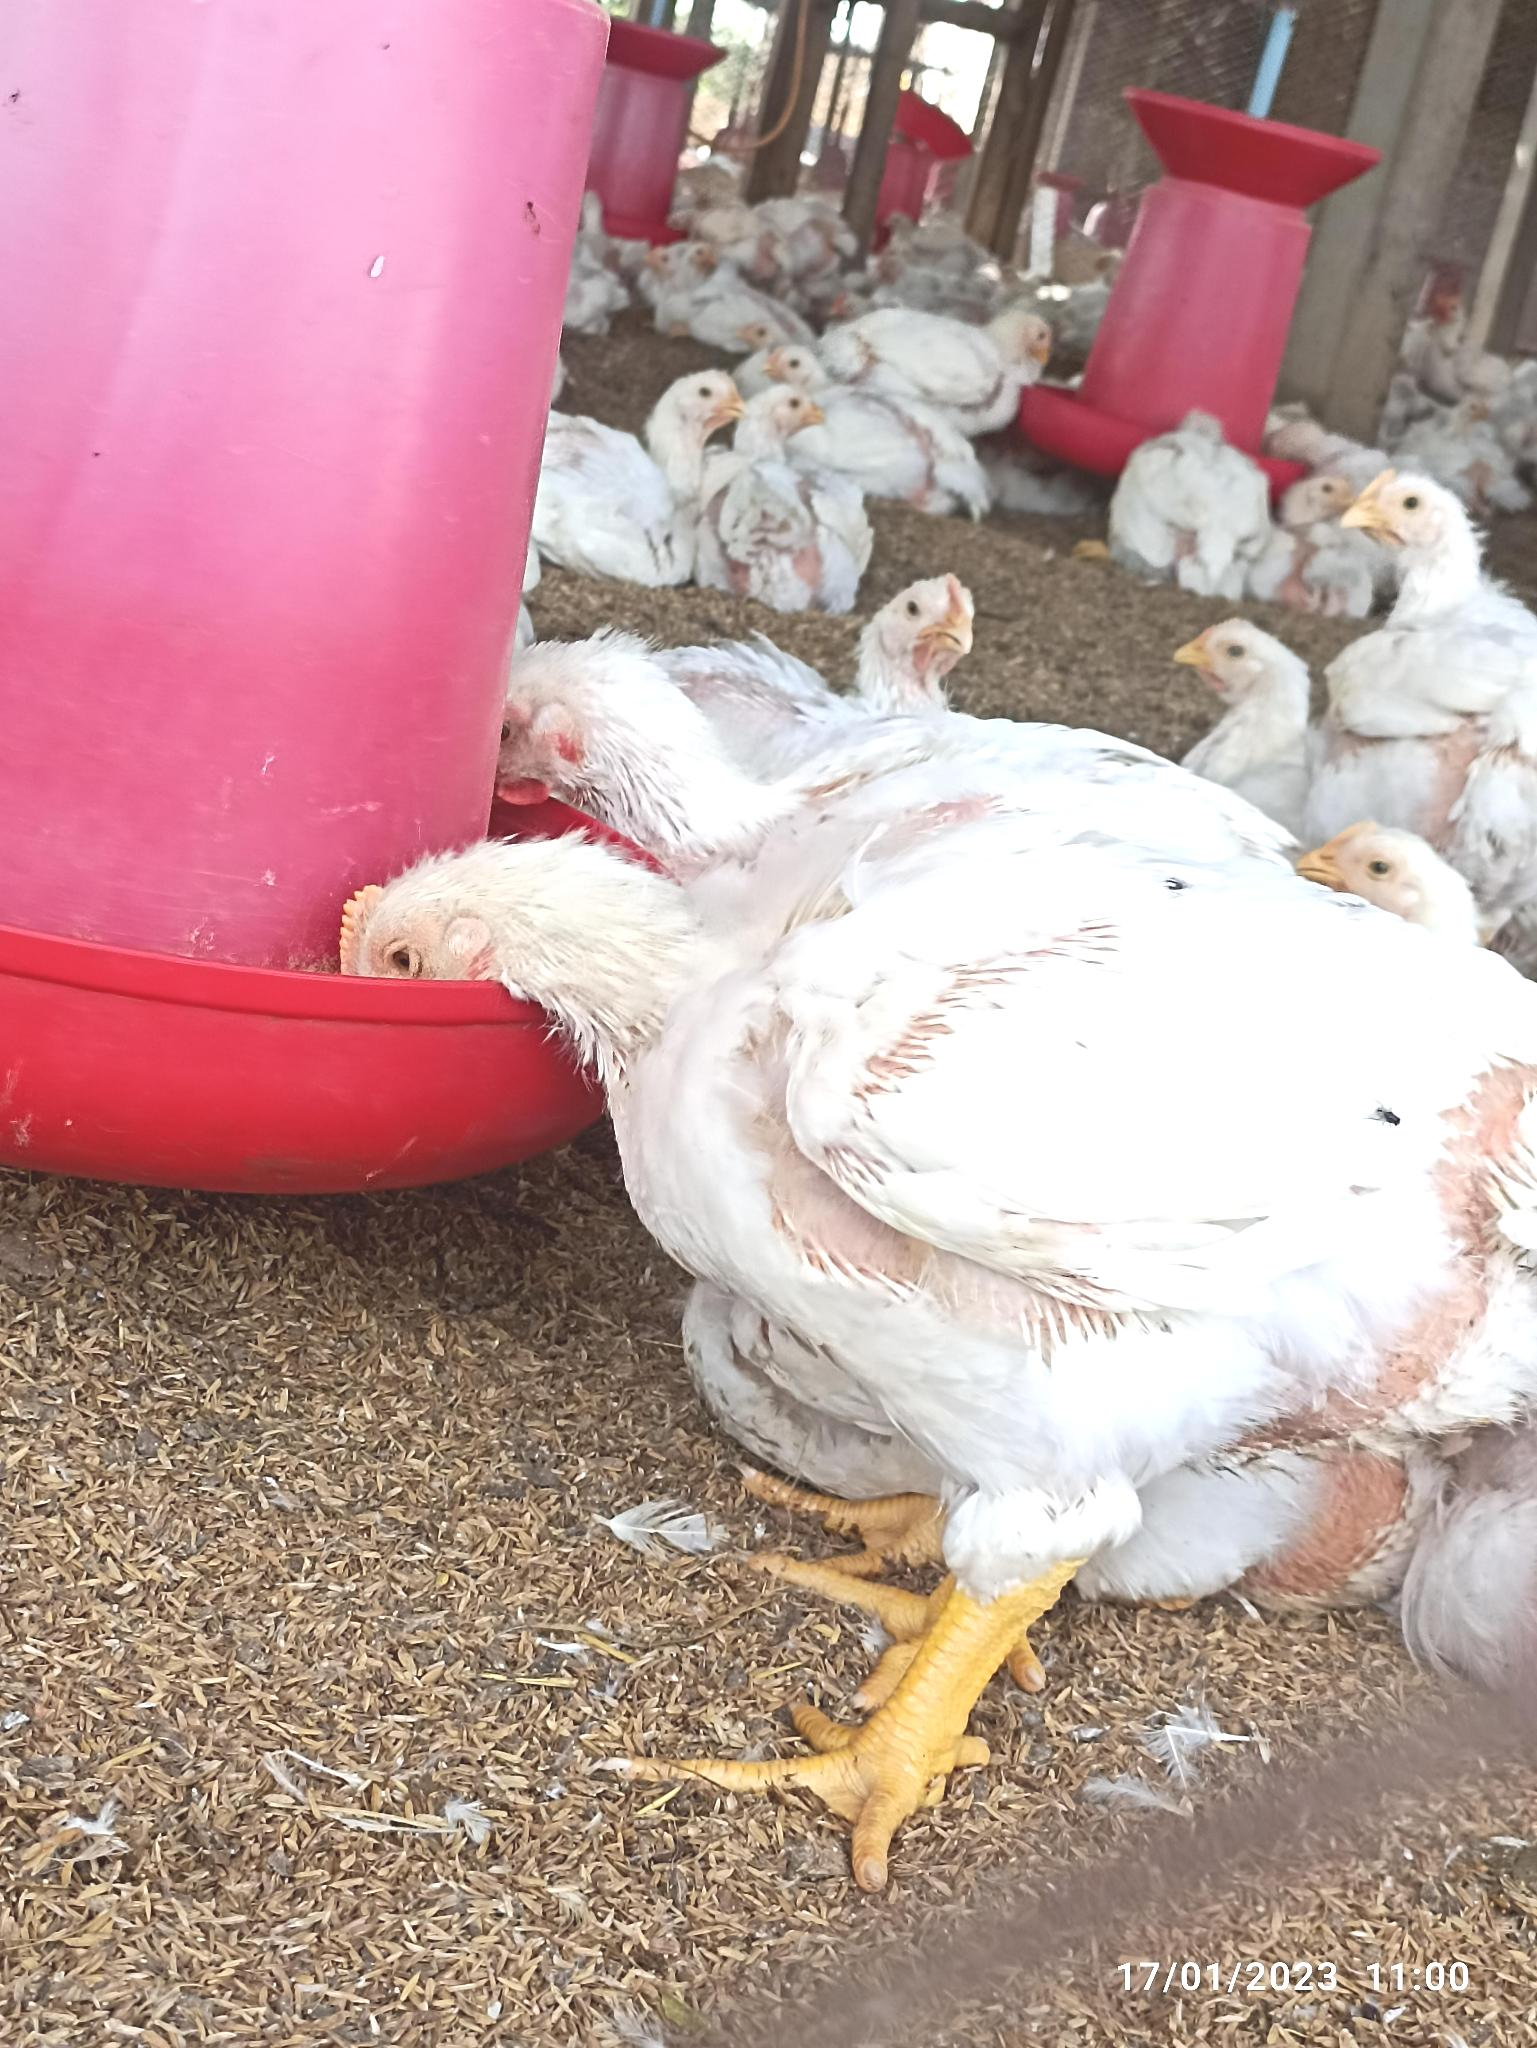Pollos: (350, 841, 1524, 1430), (1337, 470, 1537, 713), (534, 357, 762, 563), (1162, 613, 1337, 807), (1120, 405, 1287, 589), (743, 386, 890, 592), (831, 302, 1046, 399), (852, 573, 970, 720)
